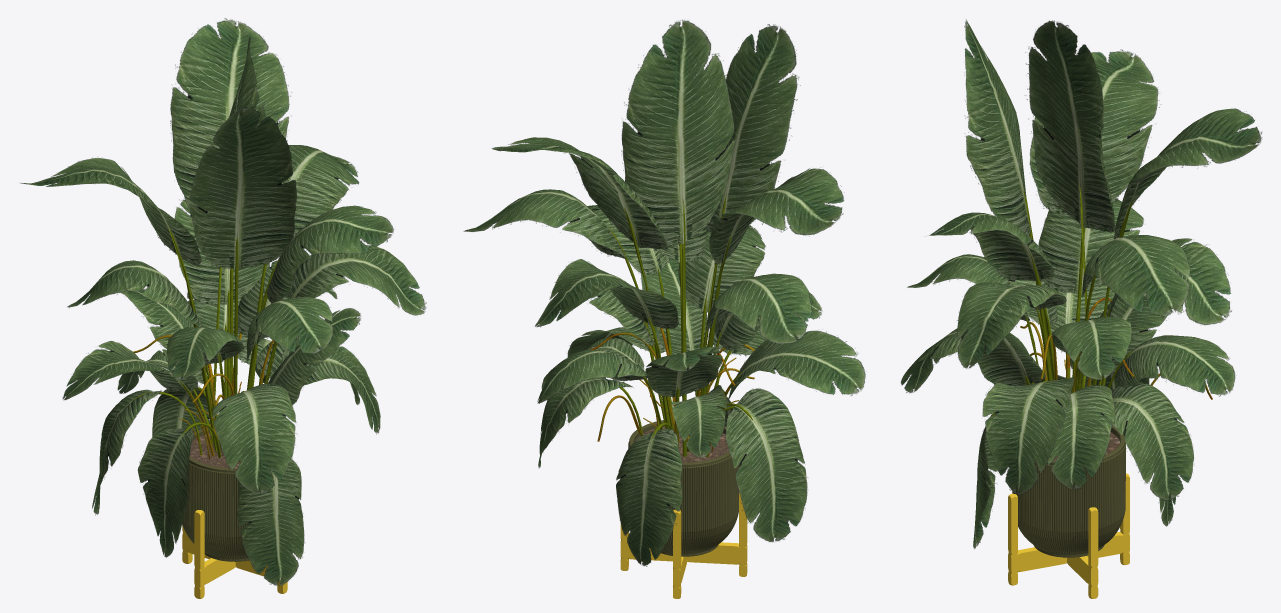
File: banana-plant.glb
The picture shows the model from 3 angles, left to right: view 1: azimuth 30°, elevation 25°; view 2: azimuth 150°, elevation 25°; view 3: azimuth 270°, elevation 25°; orthographic projection. The views are drawn at different scales.
Parts seen in each view (by area): view 1: banana-plant, Cylinder.002, Cube.026, Circle.001; view 2: banana-plant, Cylinder.002, Cube.026, Circle.001; view 3: banana-plant, Cylinder.002, Cube.026.
Part boxes in pixels (x1,y1,x2,y2): banana-plant: (20, 18, 426, 585); Cylinder.002: (182, 427, 249, 561); Cube.026: (182, 510, 287, 598); Circle.001: (189, 433, 240, 468); banana-plant: (463, 19, 865, 566); Cylinder.002: (628, 420, 739, 556); Cube.026: (620, 492, 747, 598); Circle.001: (635, 426, 729, 462); banana-plant: (900, 19, 1261, 548); Cylinder.002: (1012, 425, 1125, 557); Cube.026: (1008, 473, 1129, 598).
Size of the model in its own units: 1.22 by 1.77 by 1.05.
Materials: 6 (4 with a texture image).
